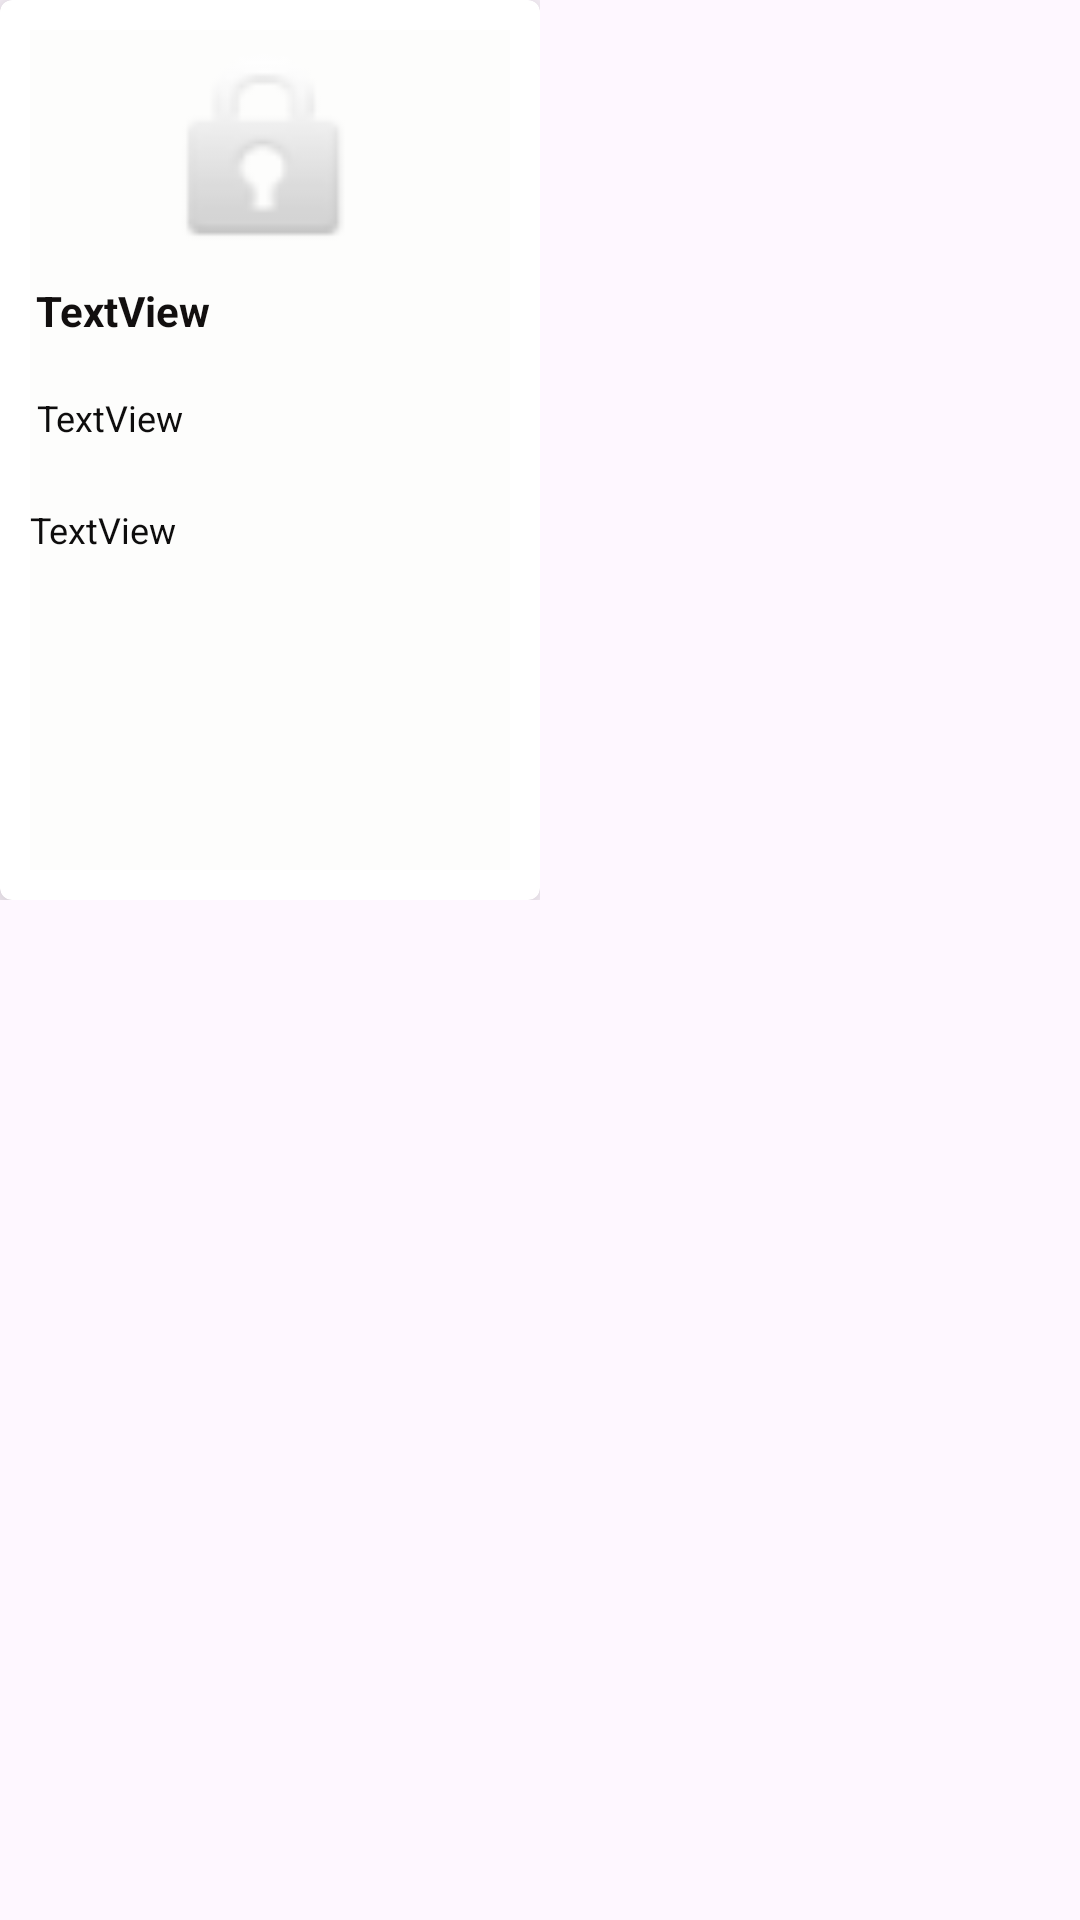

Where to tap for icons on this 1080w x 1920h app screen, as (x=x, y=y):
lock idle: (x=263, y=185)
